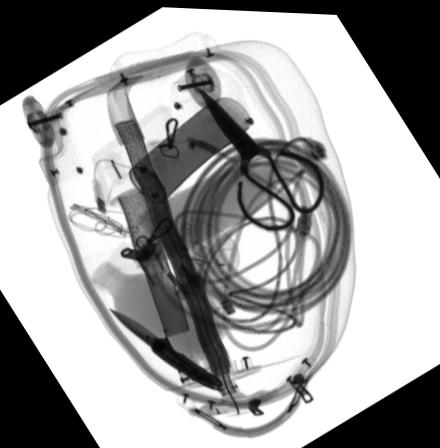Knife: (108, 308, 225, 391)
Scissors: (197, 85, 325, 230)
